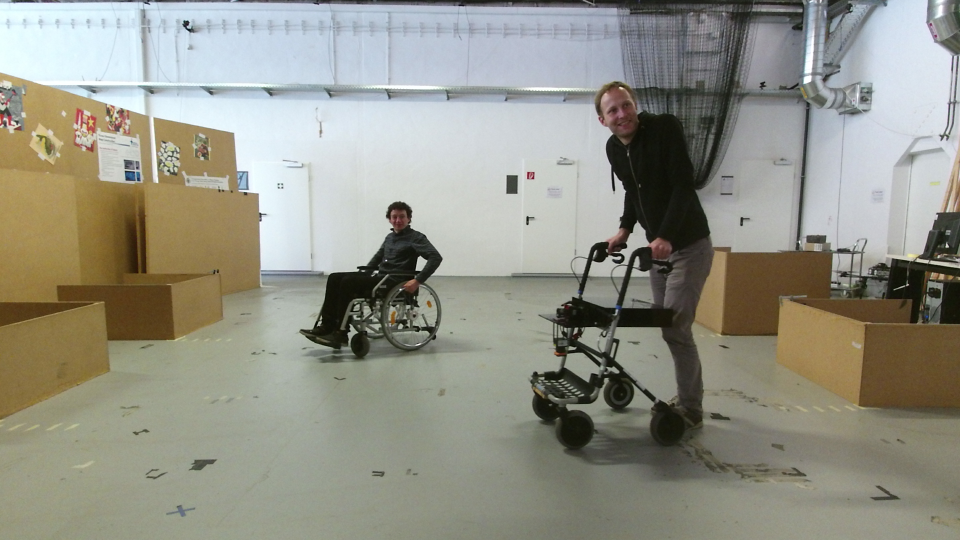wheelchair: (296, 195, 445, 362)
